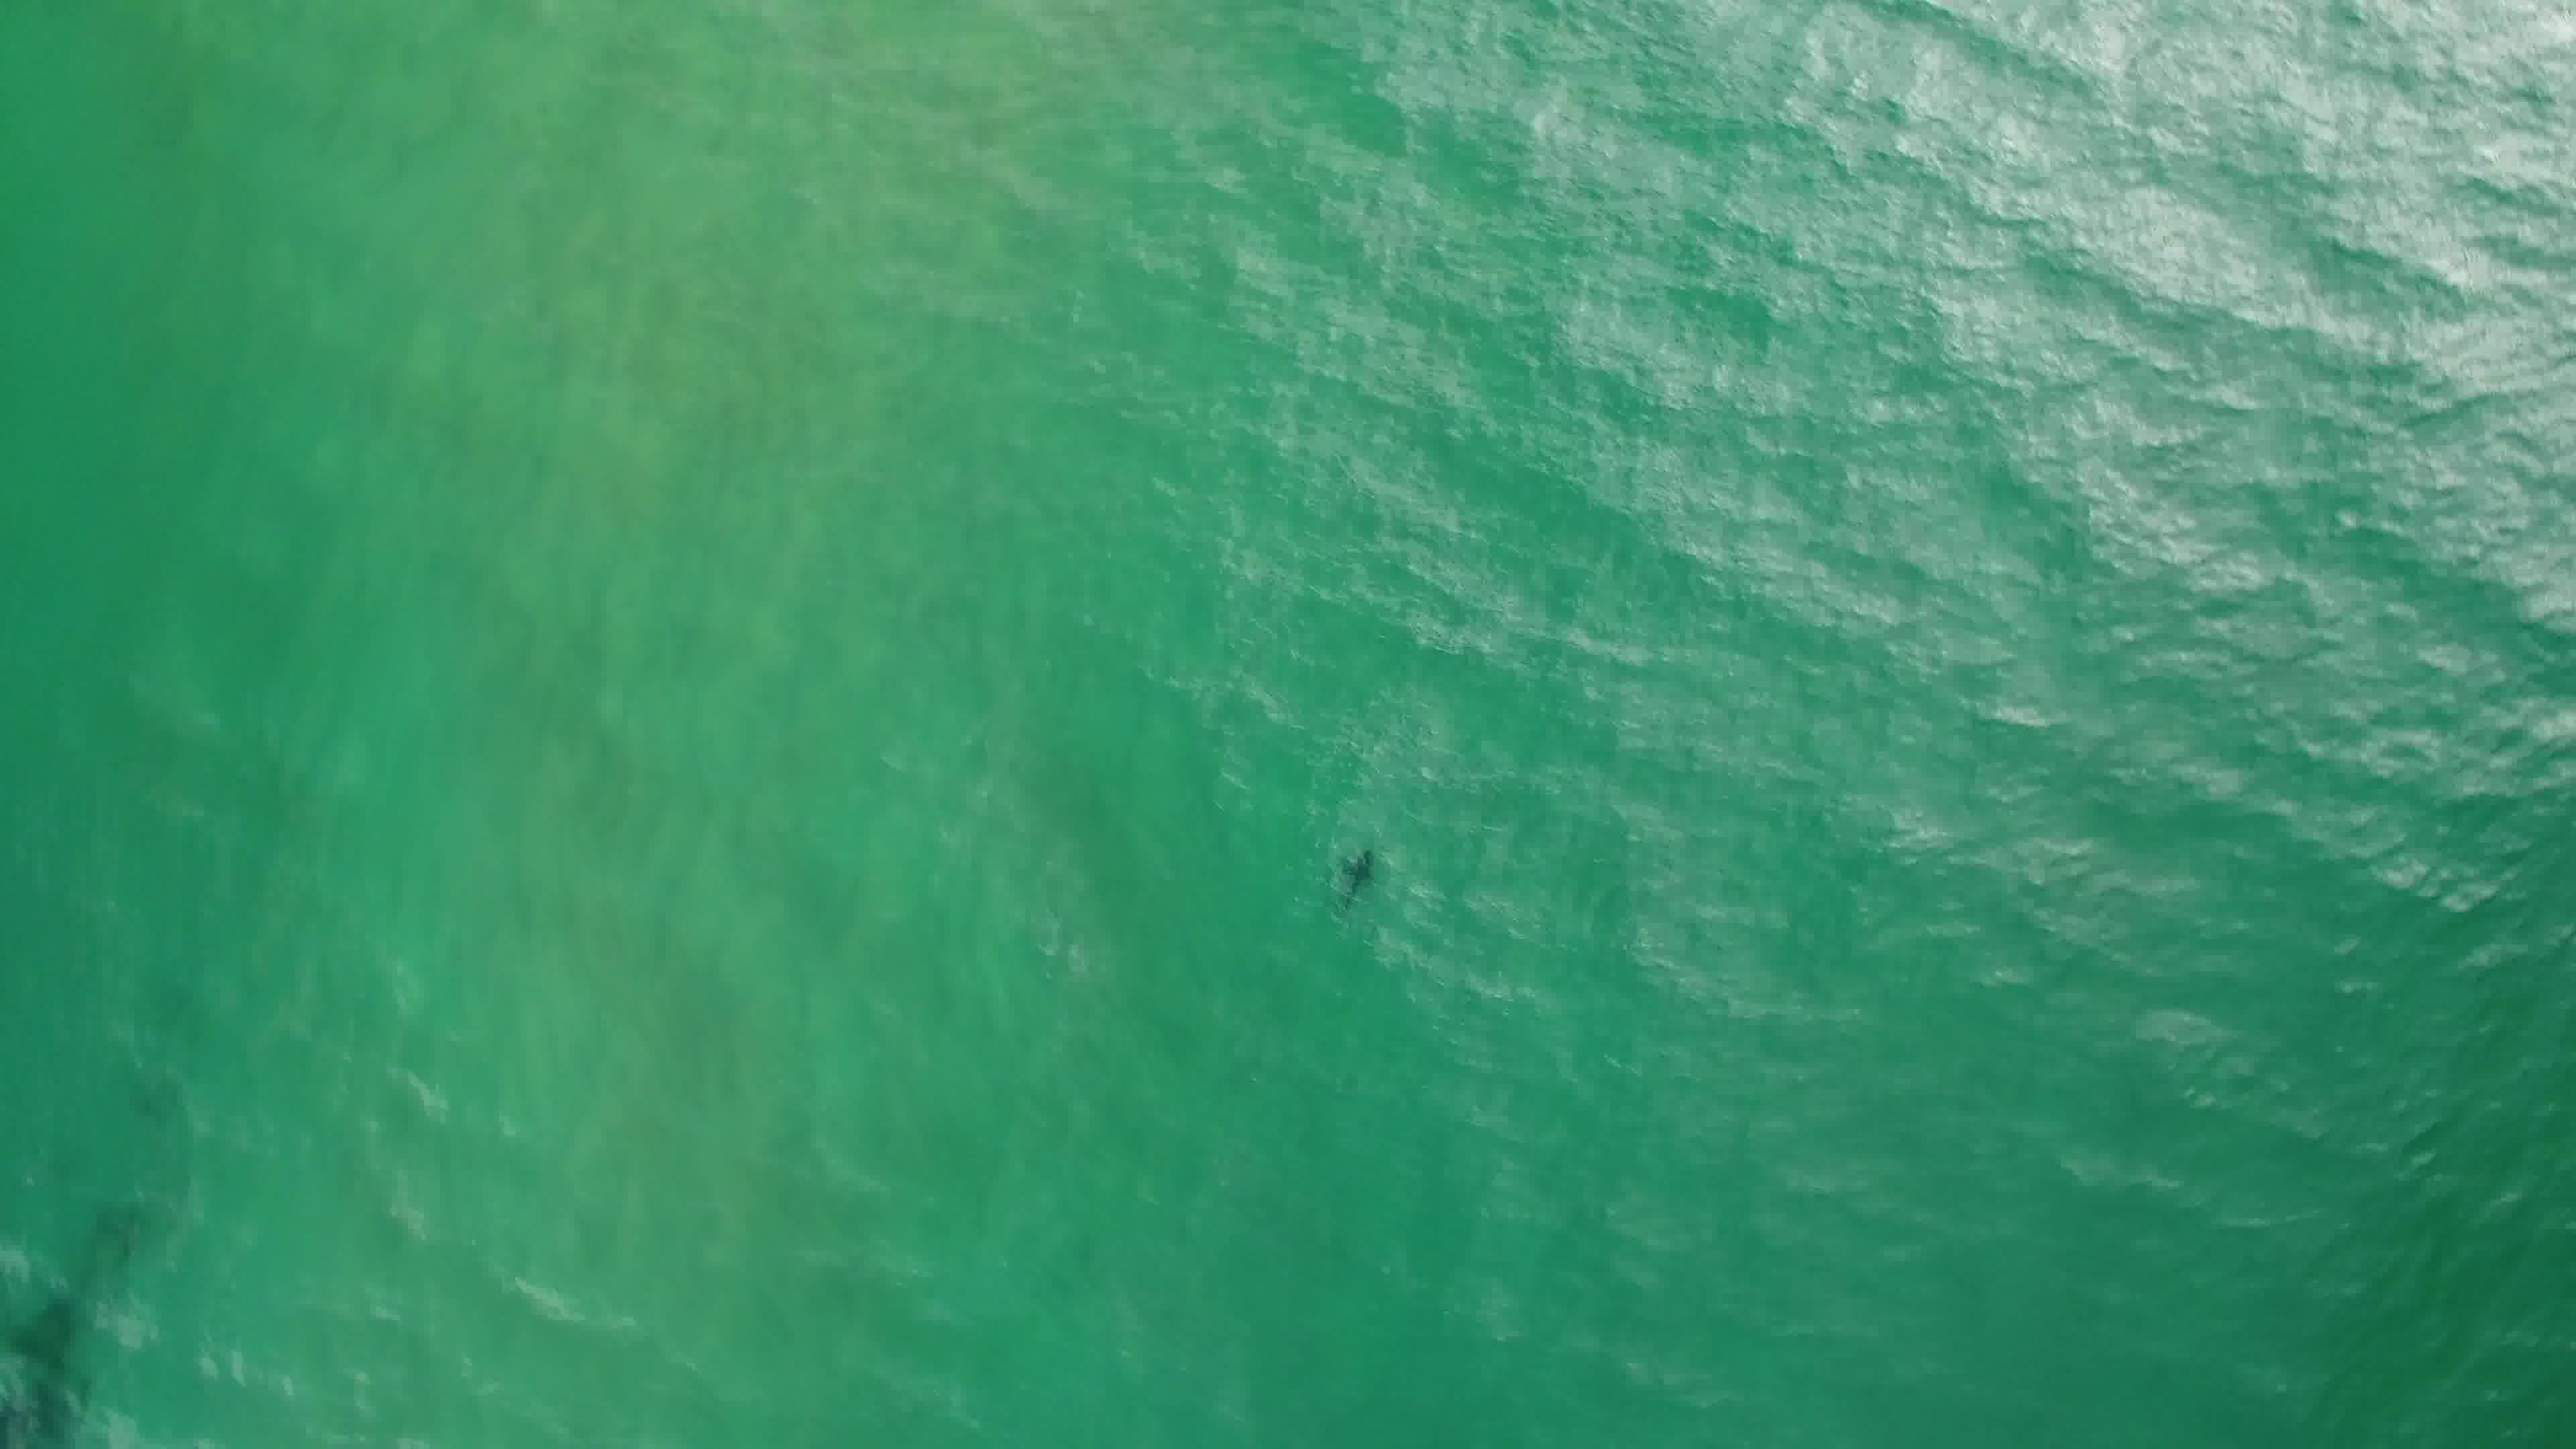shark: (1332, 840, 1385, 920)
